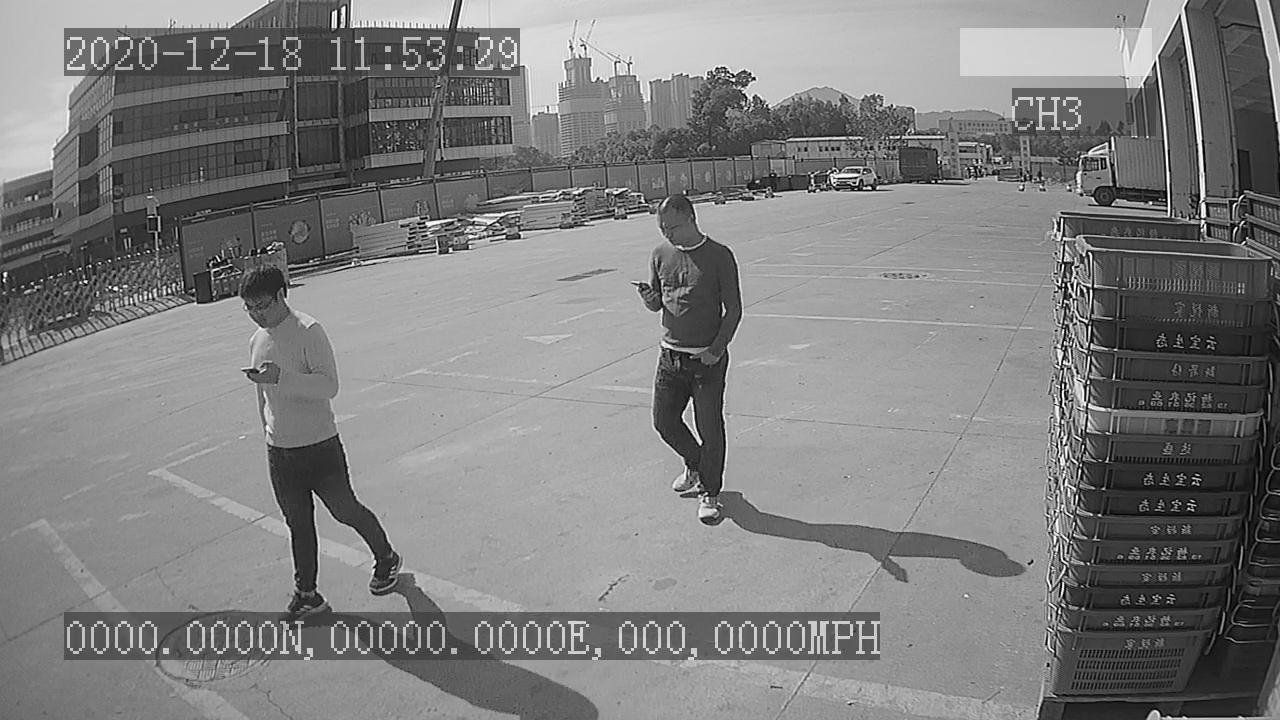person: (624, 185, 749, 529)
